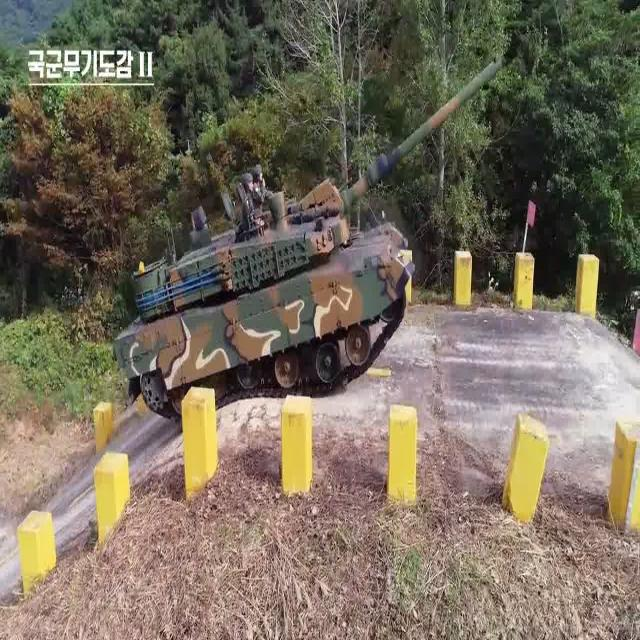korea tank: (110, 45, 508, 424)
